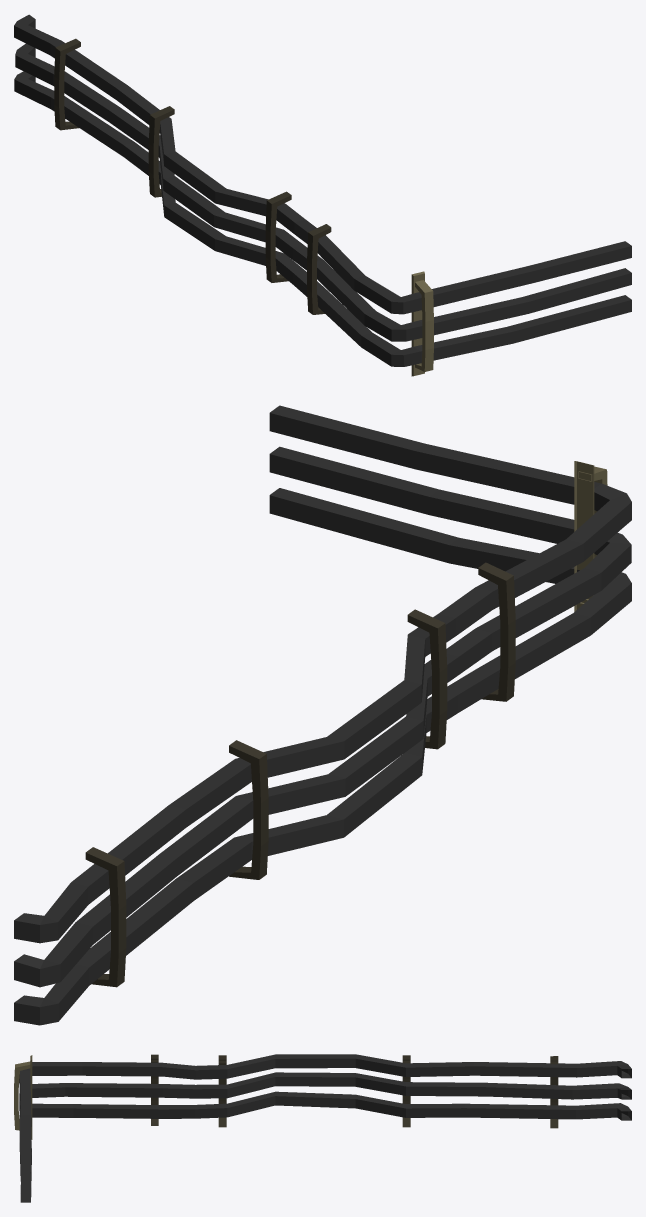
Rendered from SW_ENV_Wires3_RailTunnelEntrance.fbx.
3 renders of one model, top to bottom at view 1: azimuth 30°, elevation 25°; view 2: azimuth 150°, elevation 25°; view 3: azimuth 270°, elevation 25°, orthographic. The views are drawn at different scales.
Parts seen in each view (by area): view 1: SW_ENV_Wires3_RailTunnelEntrance; view 2: SW_ENV_Wires3_RailTunnelEntrance; view 3: SW_ENV_Wires3_RailTunnelEntrance.
Boxes of the visible parts, x1=… form: SW_ENV_Wires3_RailTunnelEntrance: x1=14, y1=14, x2=631, y2=376; SW_ENV_Wires3_RailTunnelEntrance: x1=14, y1=405, x2=631, y2=1025; SW_ENV_Wires3_RailTunnelEntrance: x1=14, y1=1054, x2=631, y2=1202.
Bounding box in the file's own units: 89.53 × 34.12 × 238.
